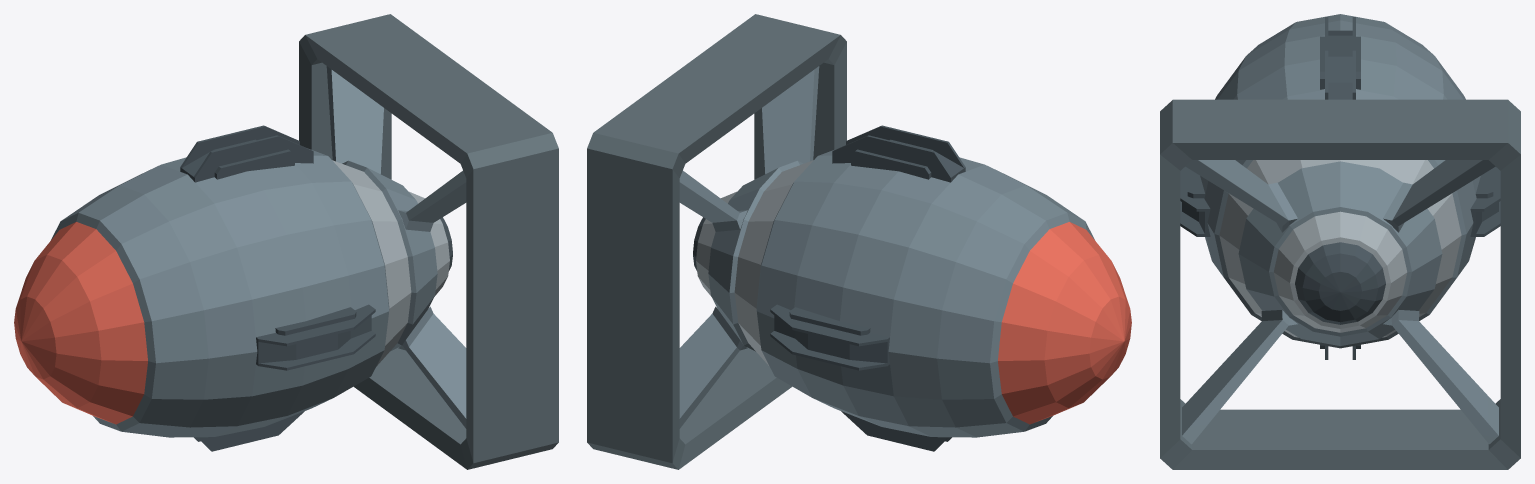
Rendered from SM_AtomBomb_02.fbx.
3 views of the same model, side by side, from view 1: azimuth 30°, elevation 25°; view 2: azimuth 150°, elevation 25°; view 3: azimuth 270°, elevation 25° (orthographic). The views are drawn at different scales.
Visible parts, largest first — view 1: SM_AtomBomb_02; view 2: SM_AtomBomb_02; view 3: SM_AtomBomb_02.
Boxes of the visible parts, left/top/right/bottom form: SM_AtomBomb_02: left=14, top=14, right=558, bottom=469; SM_AtomBomb_02: left=587, top=14, right=1131, bottom=469; SM_AtomBomb_02: left=1160, top=14, right=1520, bottom=469.
Size of the model in its own units: 26.96 by 18.1 by 18.1.
1 material, 1 textured.
